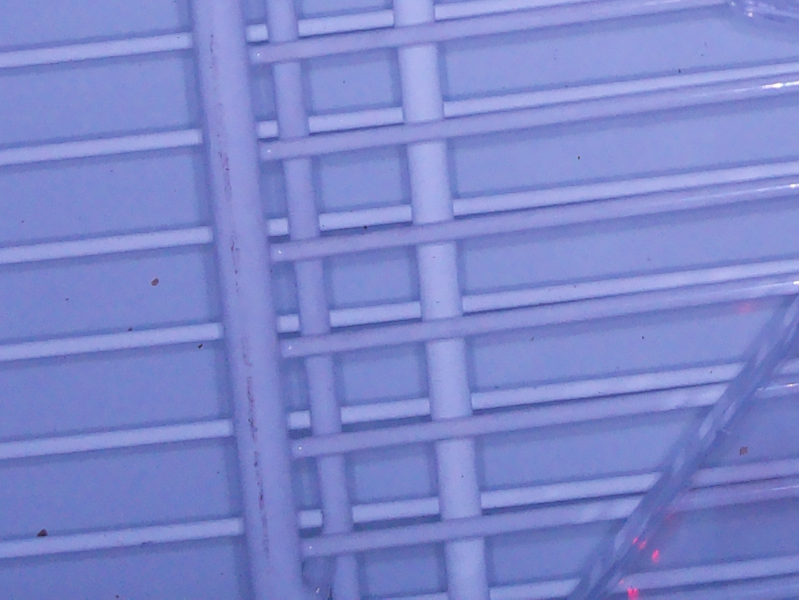plate: (565, 300, 799, 600), (728, 1, 799, 30)
